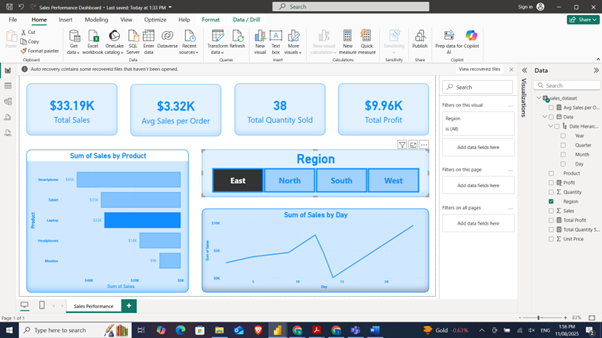

The page's visual inventory and layout, read from the dashboard file:
{"tool":"powerbi","page":{"name":"Sales Performance","canvas":[1280,720],"ordinal":0},"visuals":[{"type":"card","fields":{"Values":["Sum(sales_dataset.Sales)"]},"box":[22,64.5,280,160.5],"z":0},{"type":"clusteredBarChart","fields":{"Category":["sales_dataset.Product"],"Y":["Sum(sales_dataset.Sales)"]},"box":[22,267.6,499.5,441.9],"z":1000},{"type":"slicer","title":"Region","fields":{"Values":["sales_dataset.Region"]},"box":[561.2,267.6,699.8,146.8],"z":2000},{"type":"lineChart","fields":{"Category":["sales_dataset.Date.Variation.Date Hierarchy.Year","sales_dataset.Date.Variation.Date Hierarchy.Quarter","sales_dataset.Date.Variation.Date Hierarchy.Month","sales_dataset.Date.Variation.Date Hierarchy.Day"],"Y":["Sum(sales_dataset.Sales)"]},"box":[561.2,450.1,699.8,259.3],"z":3000},{"type":"card","fields":{"Values":["sales_dataset.Avg Sales per Order"]},"box":[341.7,65.9,279.9,160.5],"z":4000},{"type":"card","fields":{"Values":["sales_dataset.Total Quantity Sold"]},"box":[662.8,64.5,279.9,160.5],"z":5000},{"type":"card","fields":{"Values":["sales_dataset.Total Profit"]},"box":[981.1,64.5,279.9,160.5],"z":6000}]}

Visuals, with their boxes on the page's 1280x720 design canvas (x1, y1, x2, y2). These are canvas units, not pixel positions in the 602x338 screenshot, which may show the page scaled, cropped or inside an application window:
card - Sum(sales_dataset.Sales): <box>22,64,302,225</box>
clusteredBarChart - sales_dataset.Product x Sum(sales_dataset.Sales): <box>22,268,522,710</box>
"Region" slicer: <box>561,268,1261,414</box>
lineChart - sales_dataset.Date.Variation.Date Hierarchy.Year x sales_dataset.Date.Variation.Date Hierarchy.Quarter: <box>561,450,1261,709</box>
card - sales_dataset.Avg Sales per Order: <box>342,66,622,226</box>
card - sales_dataset.Total Quantity Sold: <box>663,64,943,225</box>
card - sales_dataset.Total Profit: <box>981,64,1261,225</box>
